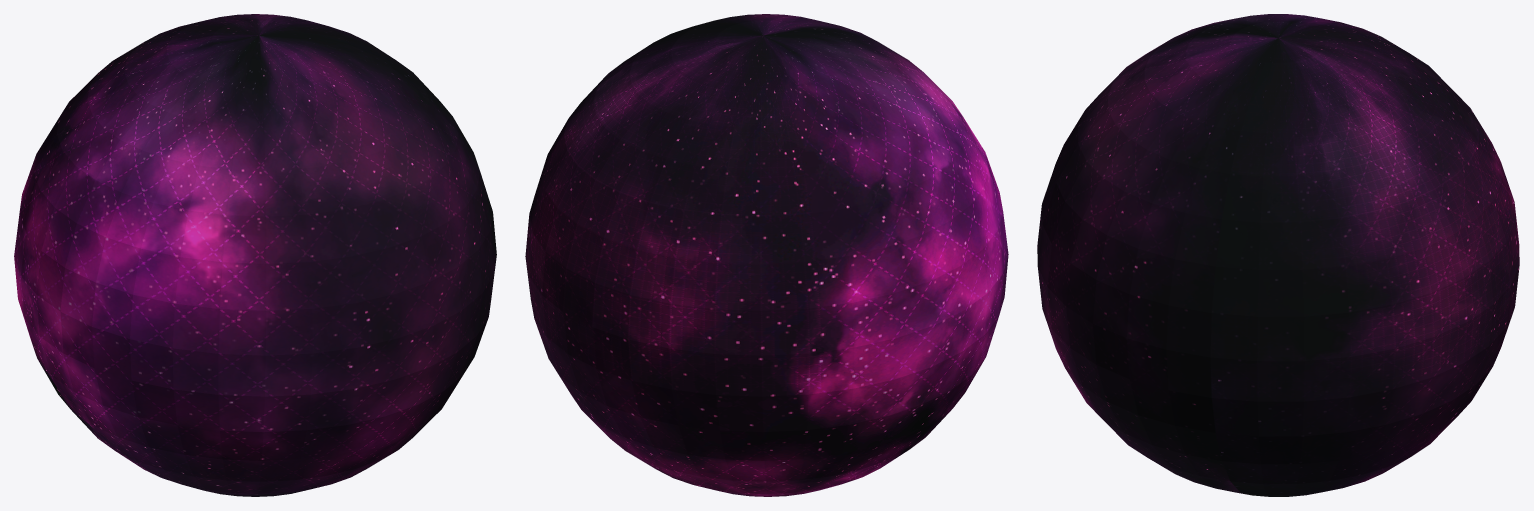
The model's file is car_charging_point_free_low_poly.glb.
The picture shows the model from 3 angles, left to right: view 1: azimuth 30°, elevation 25°; view 2: azimuth 150°, elevation 25°; view 3: azimuth 270°, elevation 25°; orthographic projection.
Visible parts, largest first — view 1: Sphere_5; view 2: Sphere_5; view 3: Sphere_5.
Boxes of the visible parts, x1,y1,x2,y2 form: Sphere_5: (14, 14, 496, 496); Sphere_5: (525, 14, 1008, 496); Sphere_5: (1037, 14, 1519, 496).
Size of the model in its own units: 1773 by 1780 by 1773.
6 materials, 6 textured.
